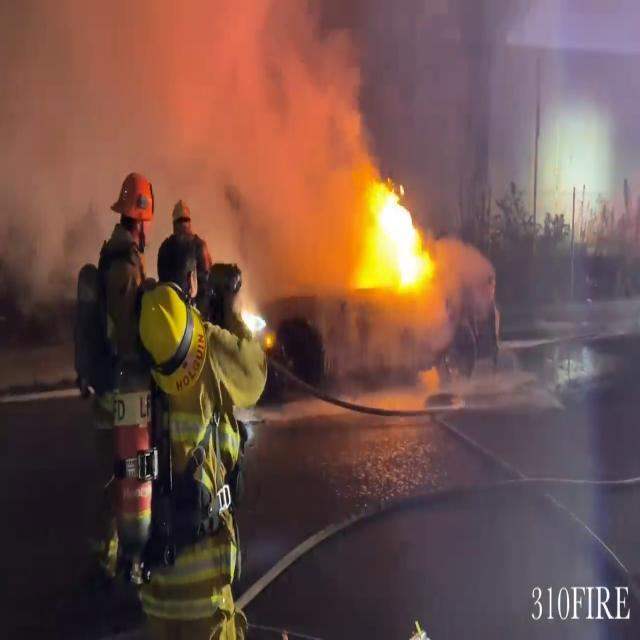Fire: (354, 174, 446, 302)
Smoke: (0, 0, 376, 297)
